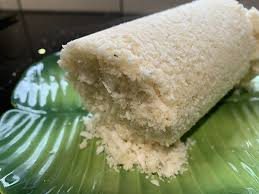pittu: (60, 1, 258, 154)
